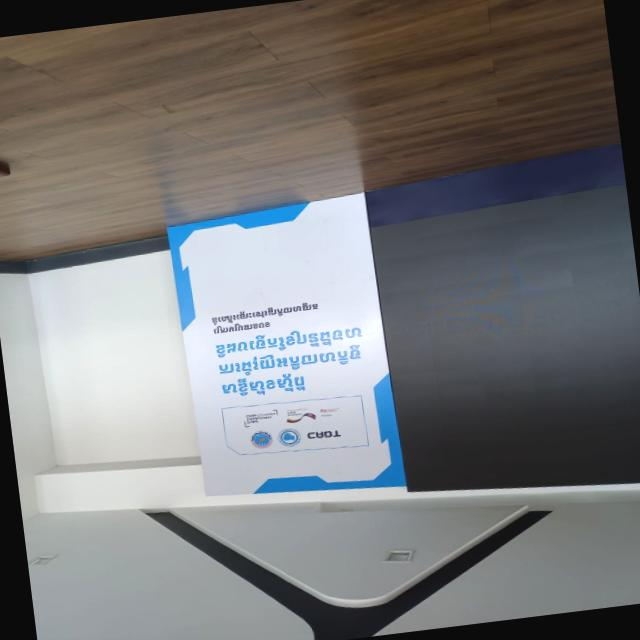Yolov11_80vkh: (214, 320, 365, 360), (217, 342, 368, 380), (210, 296, 322, 327), (215, 370, 308, 401), (211, 317, 273, 336)
